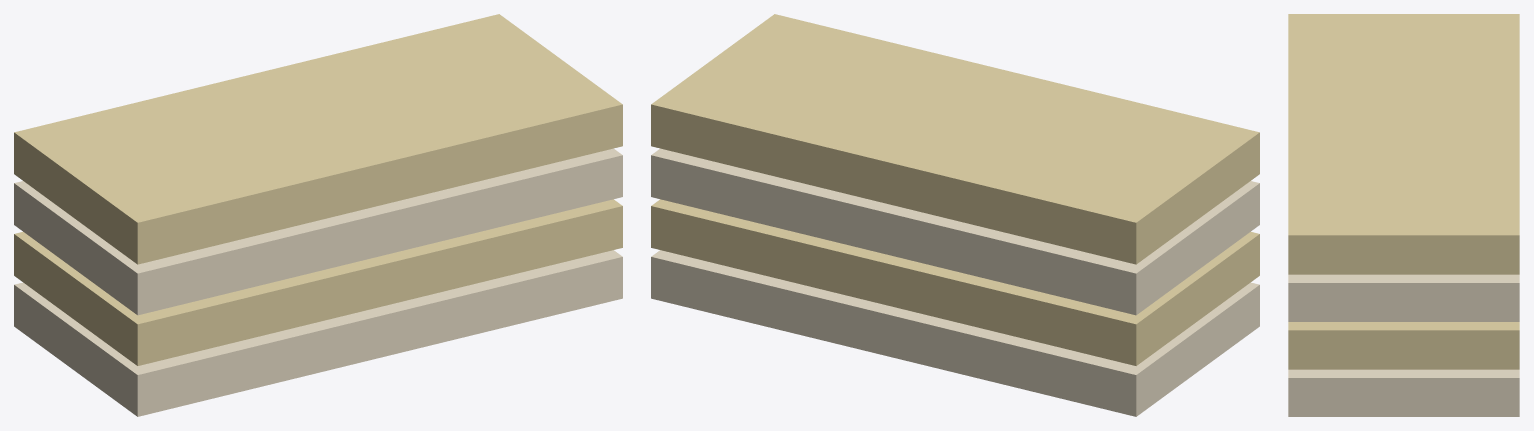
Rendered from prop_timber_stack.glb.
The picture shows the model from 3 angles, left to right: view 1: azimuth 30°, elevation 25°; view 2: azimuth 150°, elevation 25°; view 3: azimuth 270°, elevation 25°; orthographic projection. The views are drawn at different scales.
Visible parts, largest first — view 1: prop_timber_stack; view 2: prop_timber_stack; view 3: prop_timber_stack.
Part boxes in pixels (x1,y1,x2,y2): prop_timber_stack: (14,14,622,416); prop_timber_stack: (651,14,1259,416); prop_timber_stack: (1288,14,1519,416).
Bounding box in the file's own units: 0.17 × 0.065 × 0.075.
